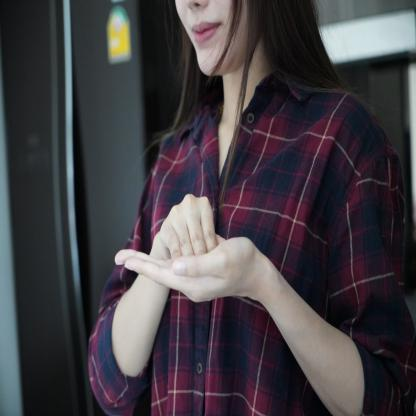Love: (109, 191, 284, 307)
